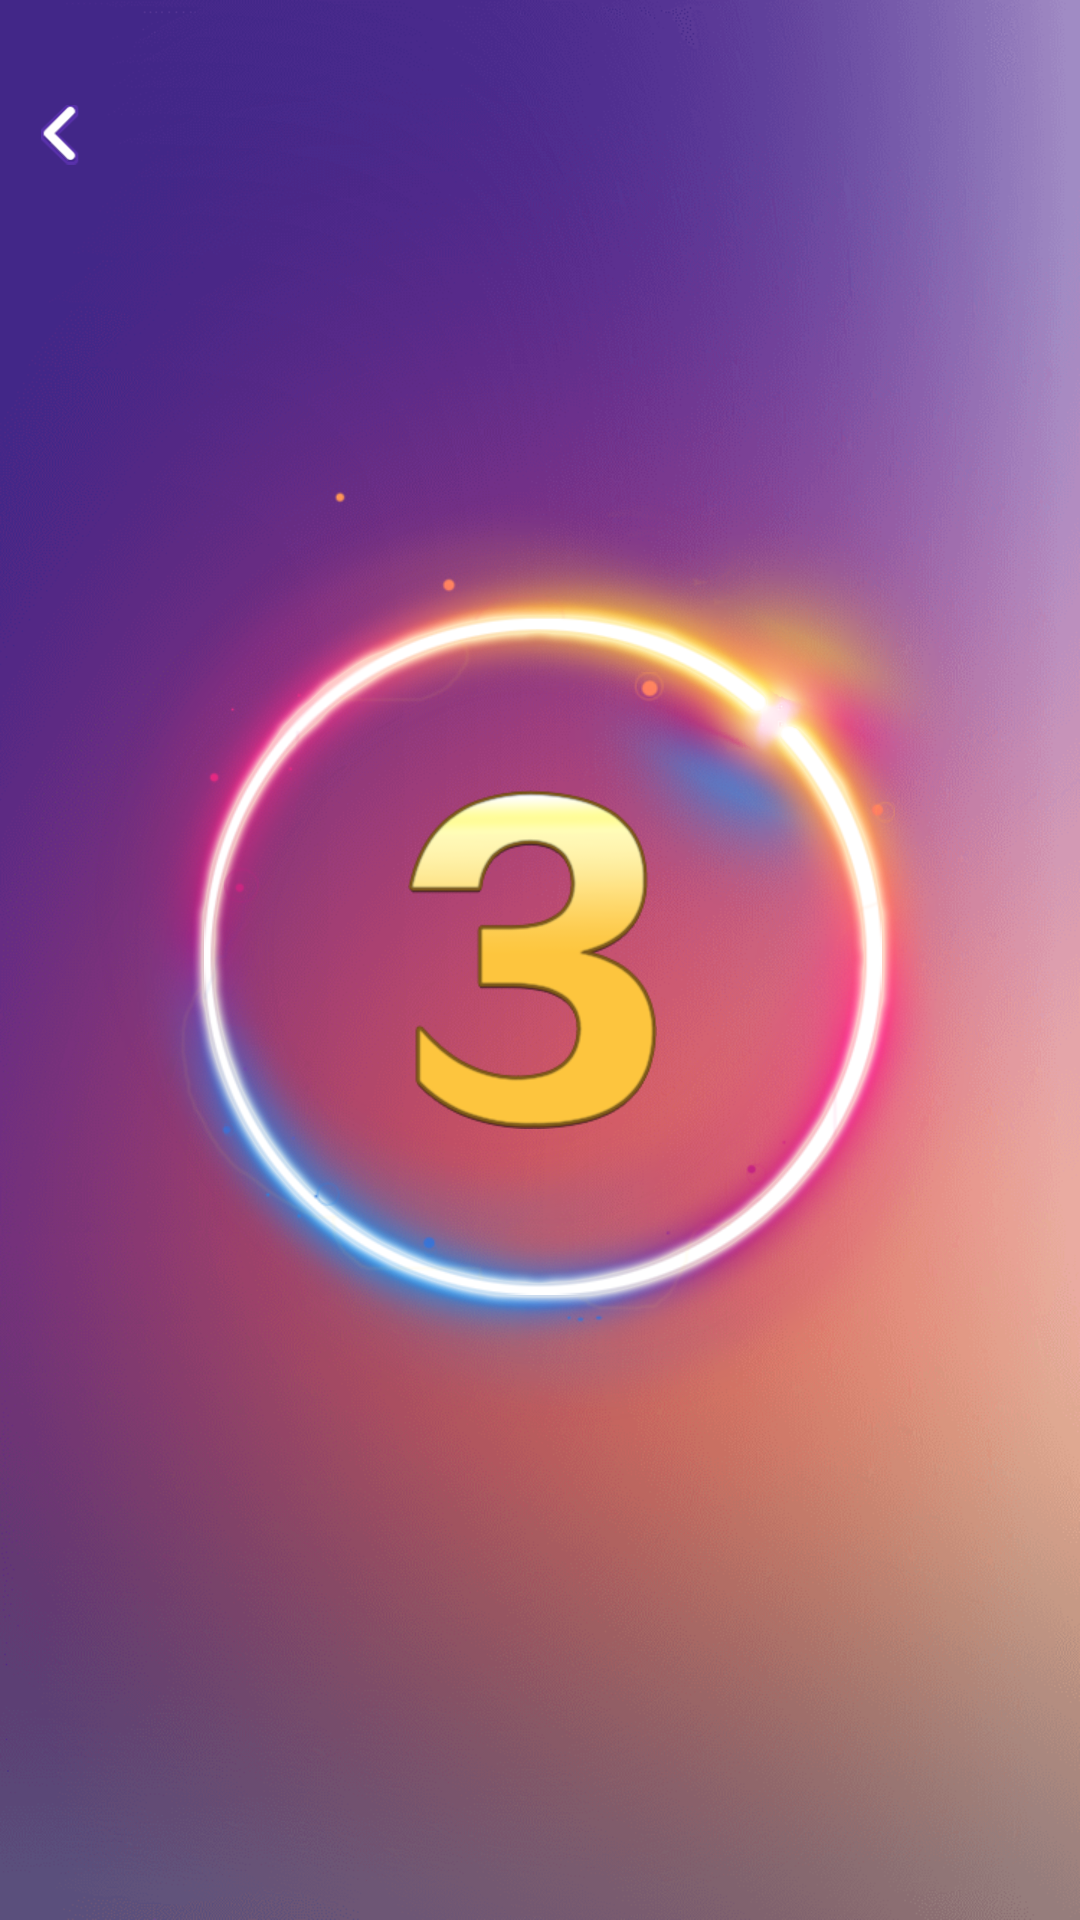

Named icons in this screenshot (1080 x 1920) and their centers, (x,y):
add back: (59,135)
